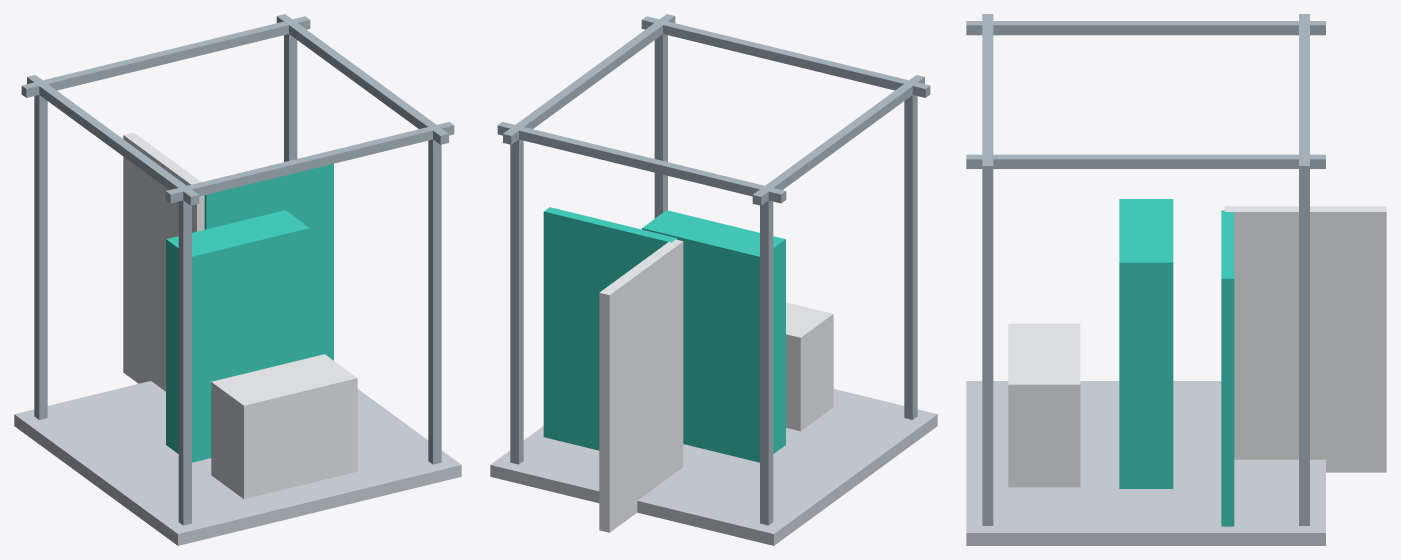
3 views of the same model, side by side, from view 1: azimuth 30°, elevation 25°; view 2: azimuth 150°, elevation 25°; view 3: azimuth 270°, elevation 25° (orthographic). The views are drawn at different scales.
Visible parts, largest first — view 1: Exhibition Booth Concept; view 2: Exhibition Booth Concept; view 3: Exhibition Booth Concept.
Boxes of the visible parts, x1,y1,x2,y2 form: Exhibition Booth Concept: (14, 14, 461, 545); Exhibition Booth Concept: (490, 14, 937, 545); Exhibition Booth Concept: (966, 14, 1386, 545).
Size of the model in its own units: 3 by 3.49 by 3.51.
